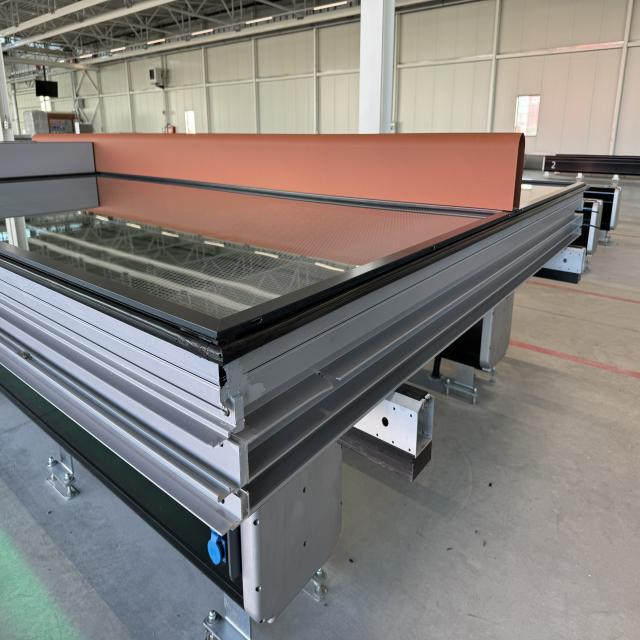ok: (4, 132, 584, 530)
